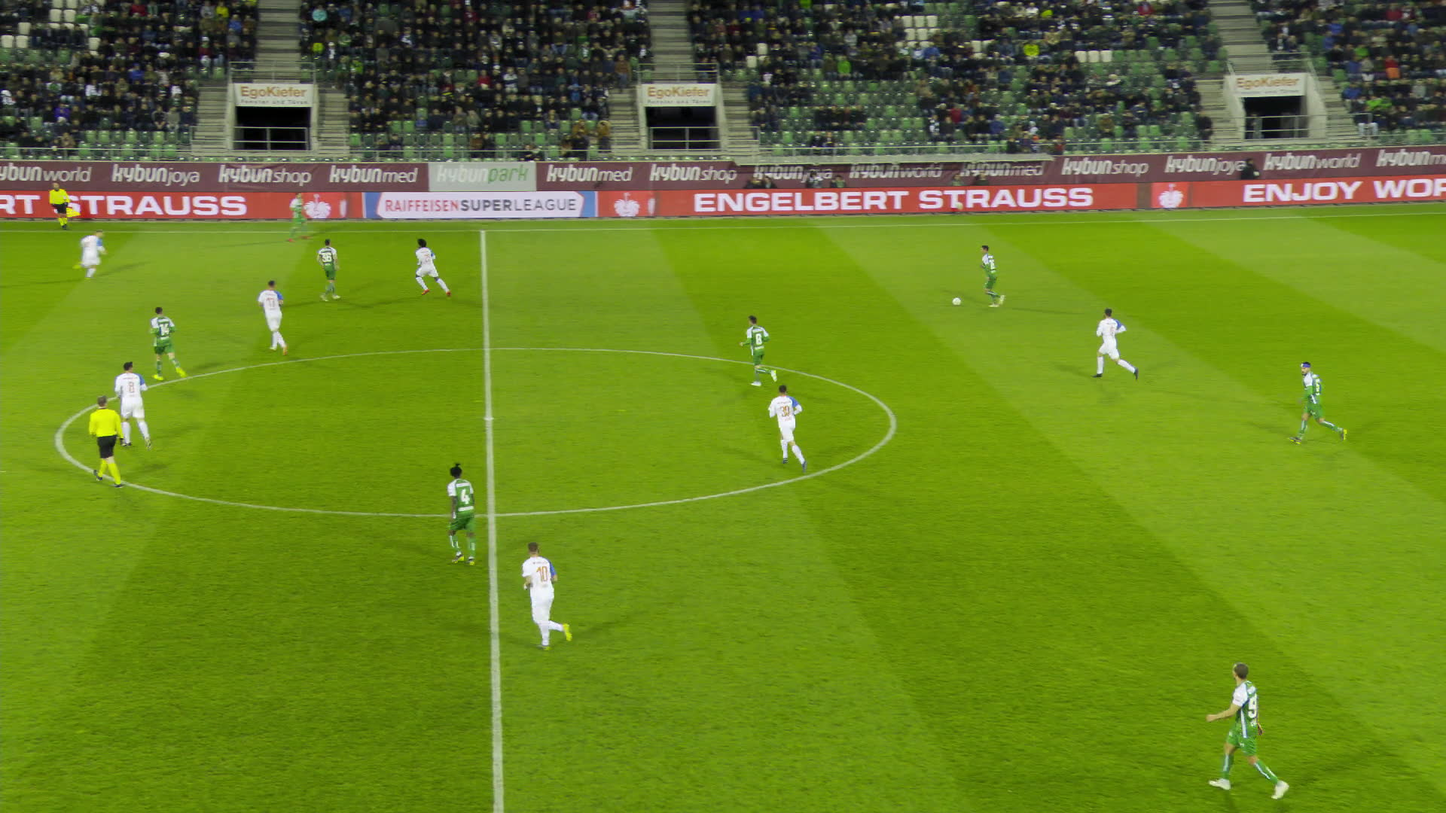ball: (952, 297, 959, 304)
player: (1207, 659, 1281, 798), (519, 540, 567, 653), (441, 461, 480, 567), (1294, 362, 1343, 443), (1088, 309, 1139, 380), (112, 361, 152, 448), (767, 384, 807, 467), (147, 308, 183, 384), (738, 315, 773, 388), (256, 280, 287, 352), (413, 237, 451, 295), (978, 245, 1006, 307), (72, 230, 105, 282), (282, 190, 308, 242), (317, 239, 339, 300)
referee: (86, 394, 124, 488), (45, 182, 68, 229)
